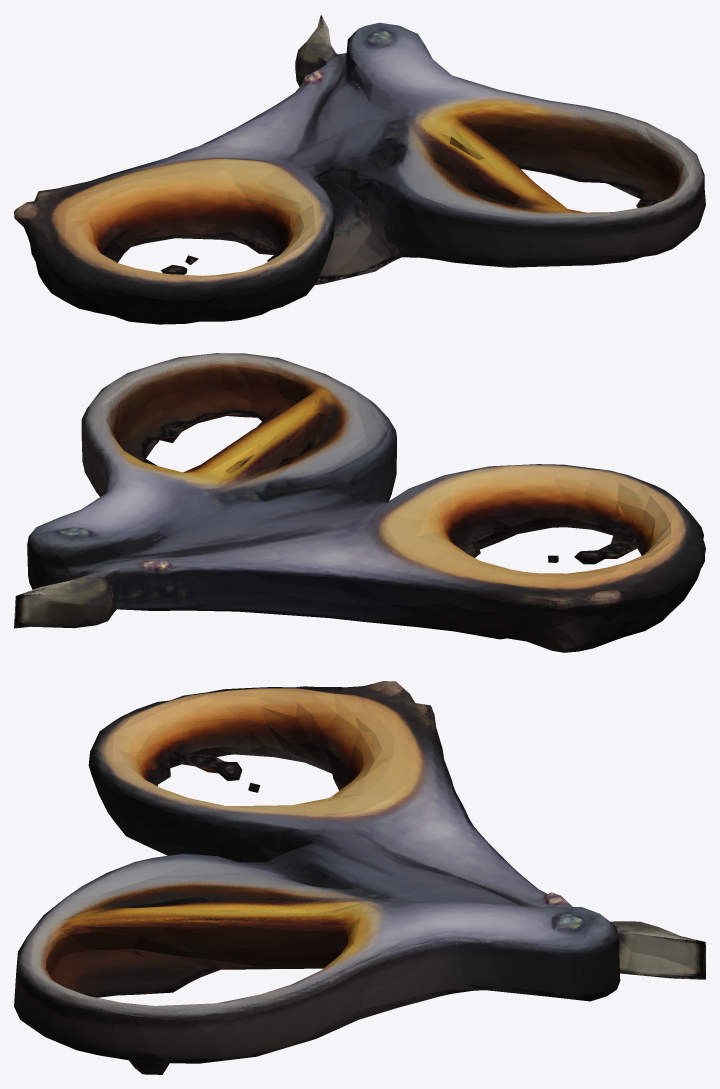
The model's file is sample.glb.
The picture shows the model from 3 angles, top to bottom: view 1: azimuth 30°, elevation 25°; view 2: azimuth 150°, elevation 25°; view 3: azimuth 270°, elevation 25°; orthographic projection. The views are drawn at different scales.
Visible parts, largest first — view 1: world; view 2: world; view 3: world.
Boxes of the visible parts, x1,y1,x2,y2 form: world: (14, 15, 705, 324); world: (14, 353, 705, 652); world: (14, 681, 705, 1074).
Size of the model in its own units: 0.5467 by 0.075 by 0.468.
1 material, 1 textured.
